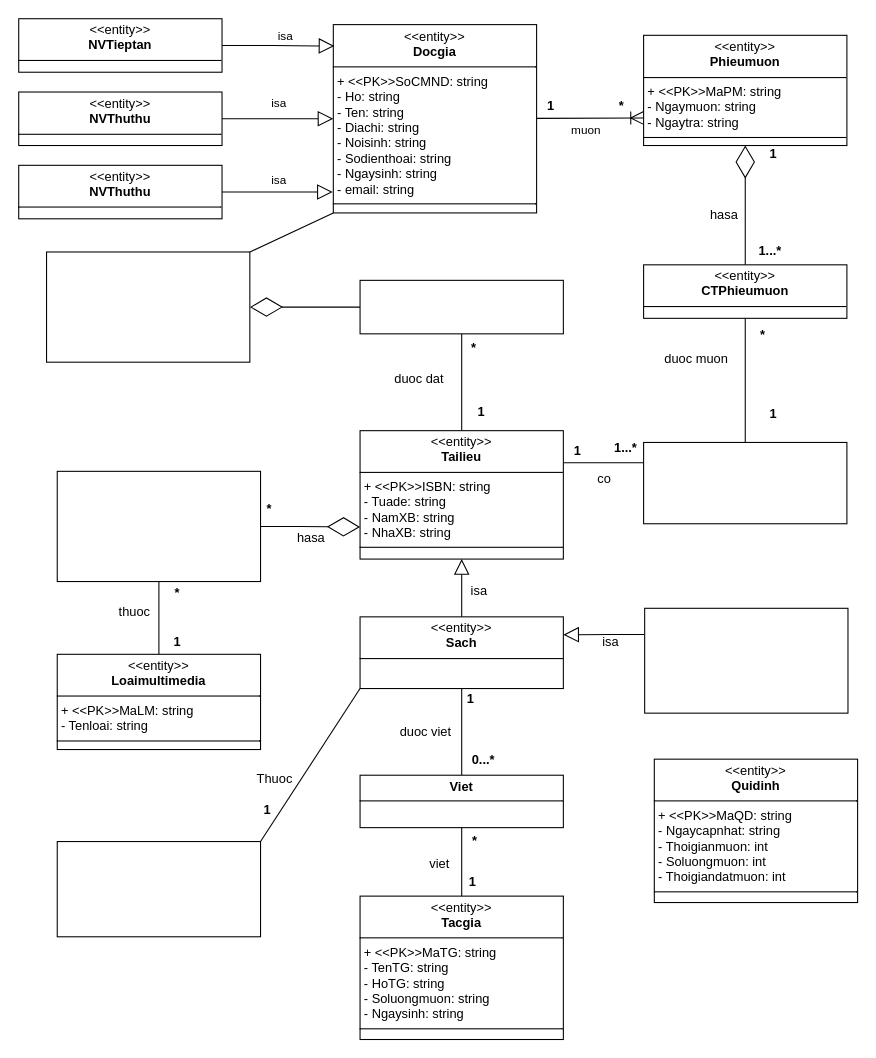
Some shapes in this 876 by 1058 pixel diagram are drawn without their labels. Each missing label, with the centre of its shape:
<<entity>> Banin + <<PK>>MaBl: string: point 745,482
<<entity>> CTPhieudatmuon: point 461,306
<<entity>> Multimedia + <<PK>>MaM: string - File: string - MaLM: string: point 158,526
<<entity>> Phieudatmuon + <<PK>>MaPDM: string - NgayDM: string - NgayXL: string: point 147,306
<<entity>> Tapchi - SoTC: string - Linhvuc: string: point 746,660
<<entity>> Theloai + <<PK>>MaTL: string - TenTL: string: point 158,888
